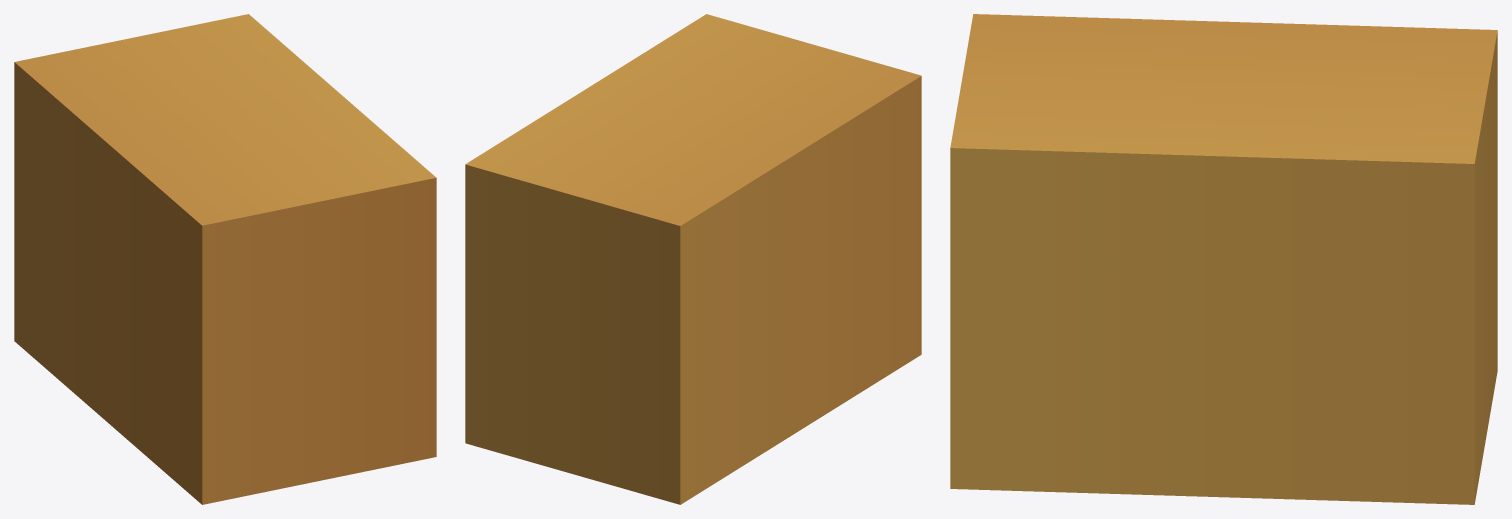
File: _Cat_Reference.fbx
3 views of the same model, side by side, from view 1: azimuth 30°, elevation 25°; view 2: azimuth 150°, elevation 25°; view 3: azimuth 270°, elevation 25° (orthographic). The views are drawn at different scales.
Visible parts, largest first — view 1: _Cat_Reference; view 2: _Cat_Reference; view 3: _Cat_Reference.
Boxes of the visible parts, bbox=[...] form: _Cat_Reference: bbox=[14, 14, 436, 504]; _Cat_Reference: bbox=[465, 14, 921, 504]; _Cat_Reference: bbox=[950, 14, 1497, 504].
Size of the model in its own units: 0.219 by 0.232 by 0.3375.
1 material, 1 textured.
